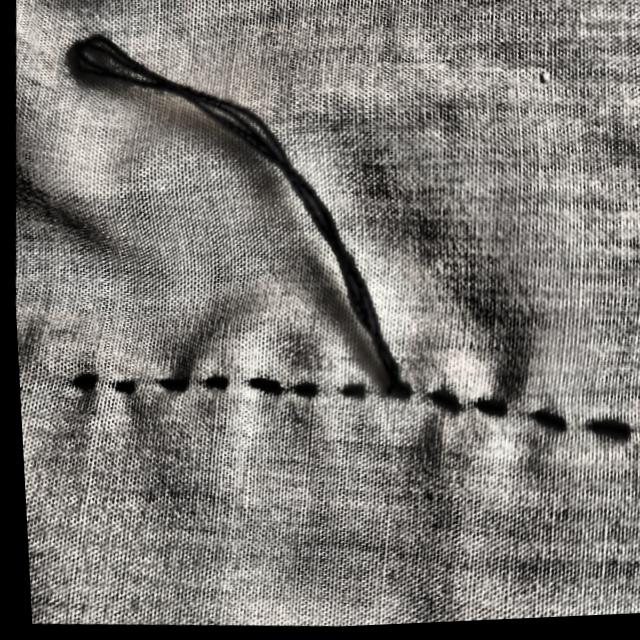Stitch: (49, 6, 460, 406)
